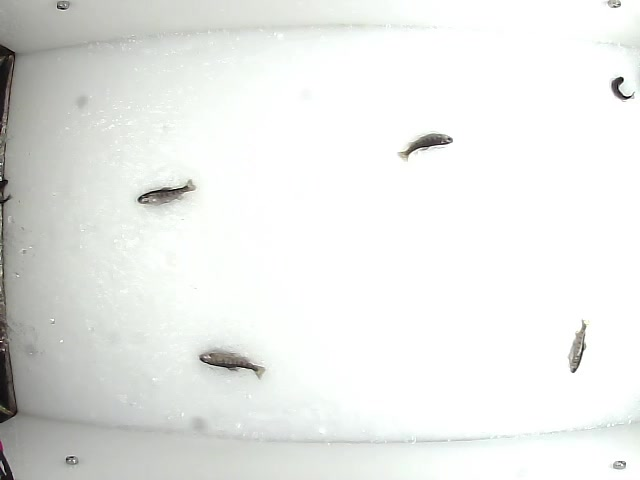fish: (195, 347, 267, 380), (136, 173, 199, 206), (396, 130, 453, 165), (565, 315, 587, 375), (609, 75, 637, 101)
